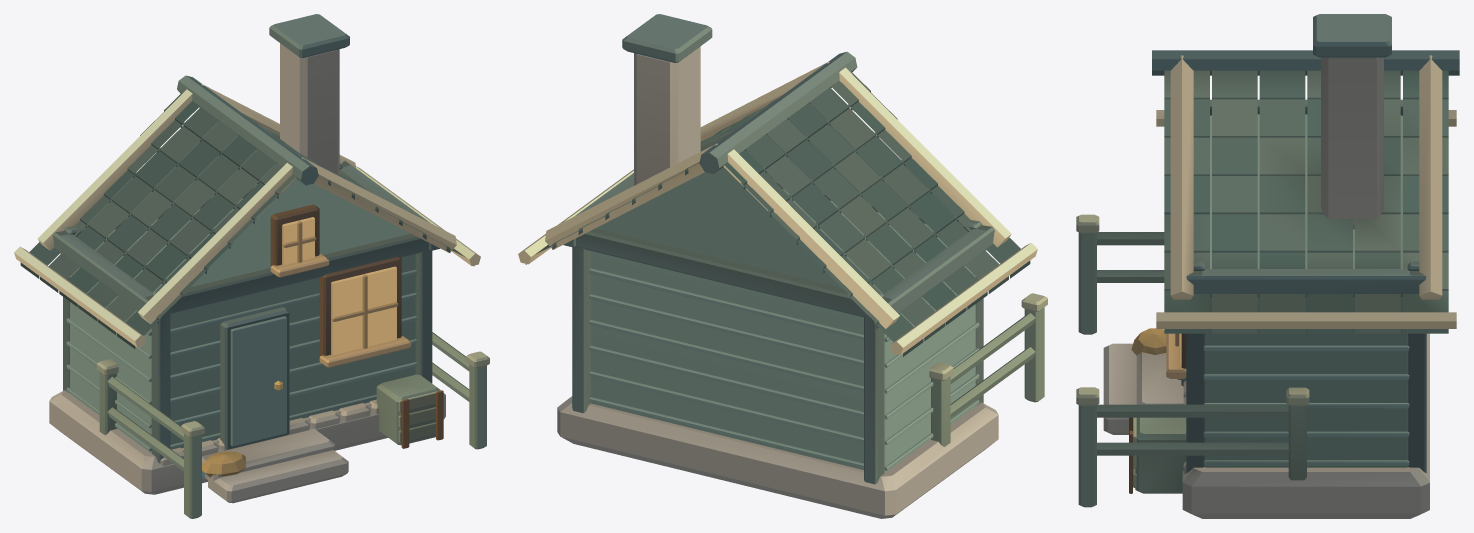
Rendered from farm_duck_house.glb.
The picture shows the model from 3 angles, left to right: view 1: azimuth 30°, elevation 25°; view 2: azimuth 150°, elevation 25°; view 3: azimuth 270°, elevation 25°; orthographic projection. The views are drawn at different scales.
Visible parts, largest first — view 1: farm_duck_house; view 2: farm_duck_house; view 3: farm_duck_house.
Boxes of the visible parts, left/top/right/bottom form: farm_duck_house: left=14, top=14, right=489, bottom=518; farm_duck_house: left=518, top=14, right=1047, bottom=518; farm_duck_house: left=1076, top=14, right=1459, bottom=518.
Bounding box in the file's own units: 3.45 × 3.47 × 2.66.
